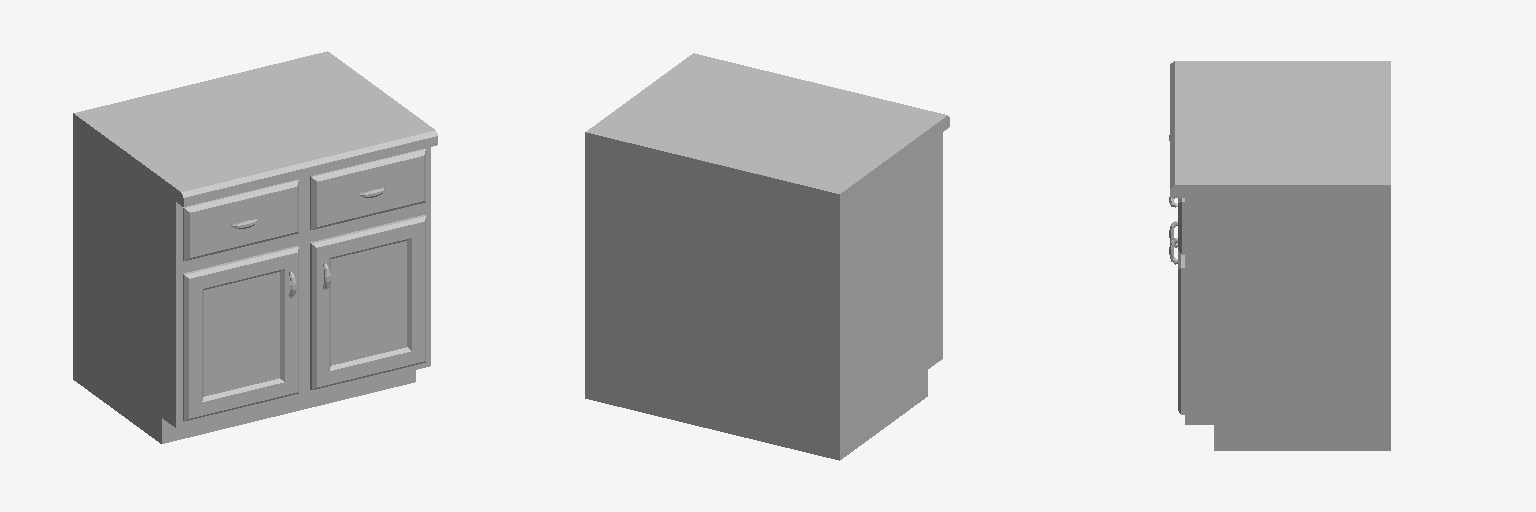
Rendered from Structure_Bathroom_Cabinet_Full.obj.
3 views of the same model, side by side, from view 1: azimuth 30°, elevation 25°; view 2: azimuth 150°, elevation 25°; view 3: azimuth 270°, elevation 25° (orthographic).
Visible parts, largest first — view 1: object3, object6, object9, object8, object1, object10; view 2: object3, object6; view 3: object3, object6, object8.
Part boxes in pixels (left/top/right/bottom): object3: left=73, top=127, right=430, bottom=443; object6: left=73, top=51, right=437, bottom=206; object9: left=183, top=246, right=298, bottom=421; object8: left=310, top=215, right=425, bottom=389; object1: left=310, top=149, right=425, bottom=229; object10: left=183, top=180, right=298, bottom=260; object3: left=585, top=133, right=942, bottom=460; object6: left=585, top=53, right=949, bottom=207; object3: left=1185, top=198, right=1390, bottom=450; object6: left=1170, top=61, right=1390, bottom=197; object8: left=1178, top=250, right=1184, bottom=414.
Bounding box in the file's own units: 1 × 1 × 0.7531.